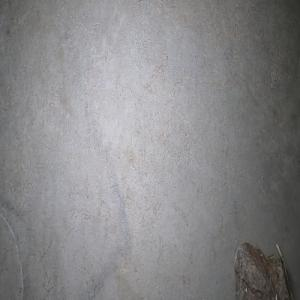Rock: (233, 242, 293, 300)
